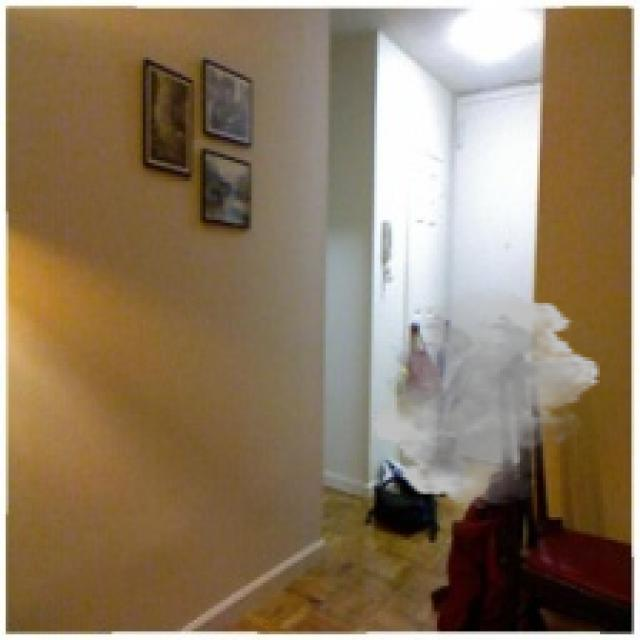Smoke: (368, 288, 603, 508)
